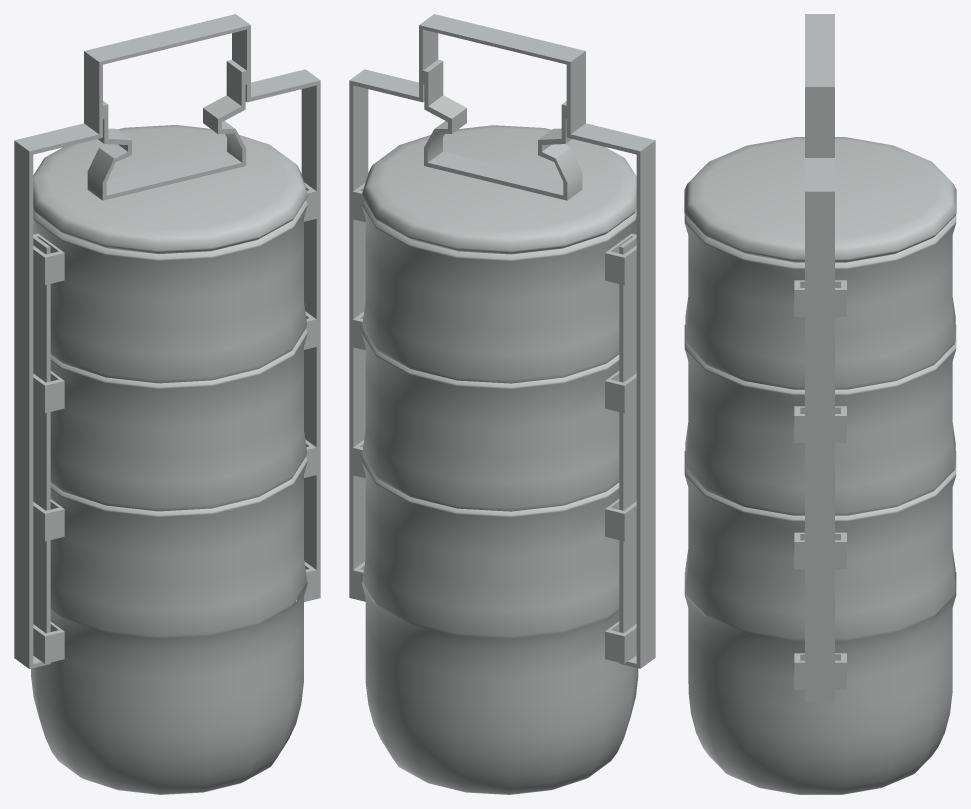
Rendered from tiffin_container.FBX.
3 renders of one model, left to right at view 1: azimuth 30°, elevation 25°; view 2: azimuth 150°, elevation 25°; view 3: azimuth 270°, elevation 25°, orthographic.
Visible parts, largest first — view 1: tiffin container; view 2: tiffin container; view 3: tiffin container.
Part boxes in pixels (x1=…): tiffin container: x1=14, y1=14, x2=320, y2=794; tiffin container: x1=349, y1=14, x2=655, y2=794; tiffin container: x1=684, y1=14, x2=956, y2=794.
Size of the model in its own units: 22.14 by 51.56 by 18.21.
1 material, 1 textured.
